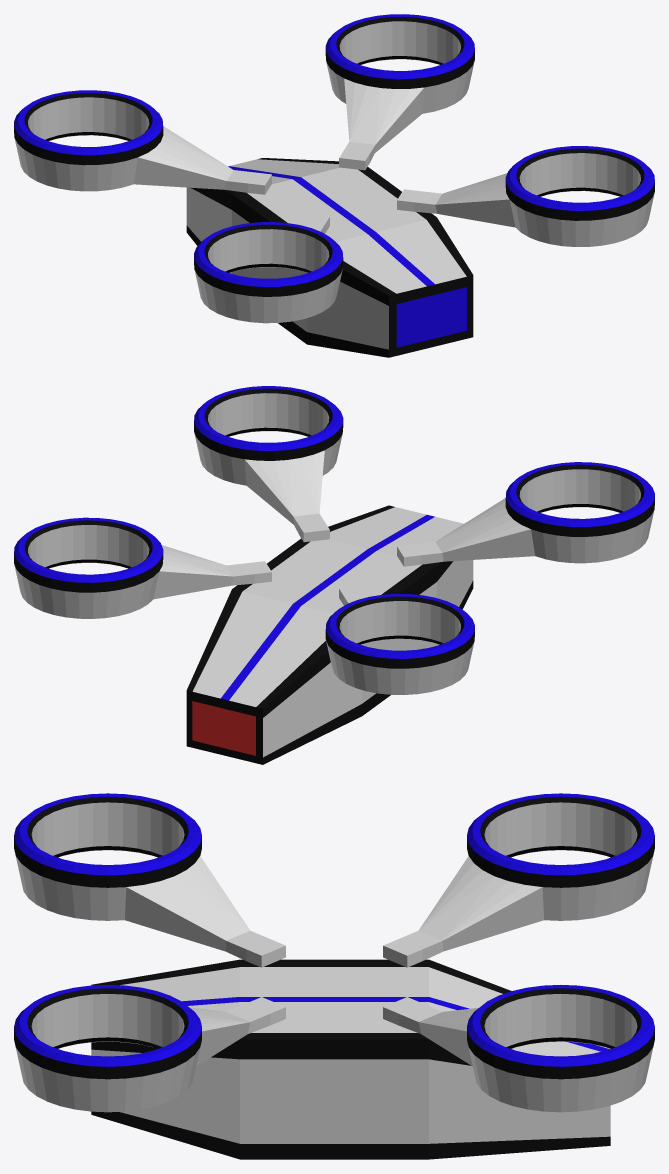
The model's file is drone_body.glb.
The picture shows the model from 3 angles, top to bottom: view 1: azimuth 30°, elevation 25°; view 2: azimuth 150°, elevation 25°; view 3: azimuth 270°, elevation 25°; orthographic projection. The views are drawn at different scales.
Parts seen in each view (by area): view 1: Circle.006, Circle.007; view 2: Circle.006, Circle.007; view 3: Circle.006, Circle.007.
Boxes of the visible parts, <box> form: Circle.006: <box>14,14,654,323</box>; Circle.007: <box>186,158,473,357</box>; Circle.006: <box>14,386,654,694</box>; Circle.007: <box>186,505,473,764</box>; Circle.006: <box>14,793,654,1112</box>; Circle.007: <box>91,959,610,1159</box>.
Bounding box in the file's own units: 22.65 × 7.64 × 22.65.
